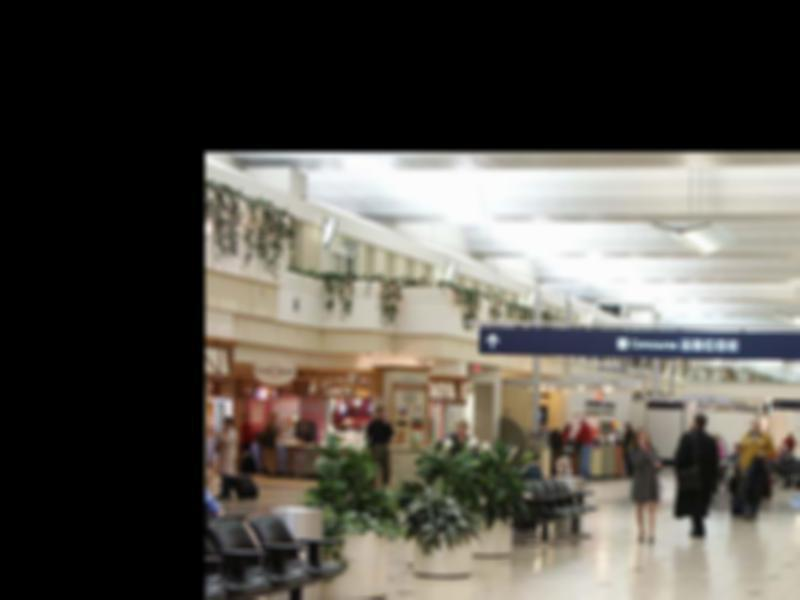Bote de Basura: (264, 498, 329, 600)
Matera: (319, 432, 396, 600), (400, 426, 479, 582), (472, 442, 521, 558)
